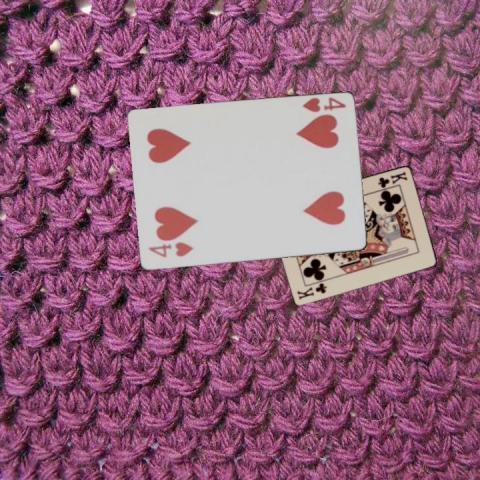4h: (299, 95, 347, 114), (145, 241, 195, 259)
Kc: (294, 281, 328, 301), (374, 169, 408, 189)
